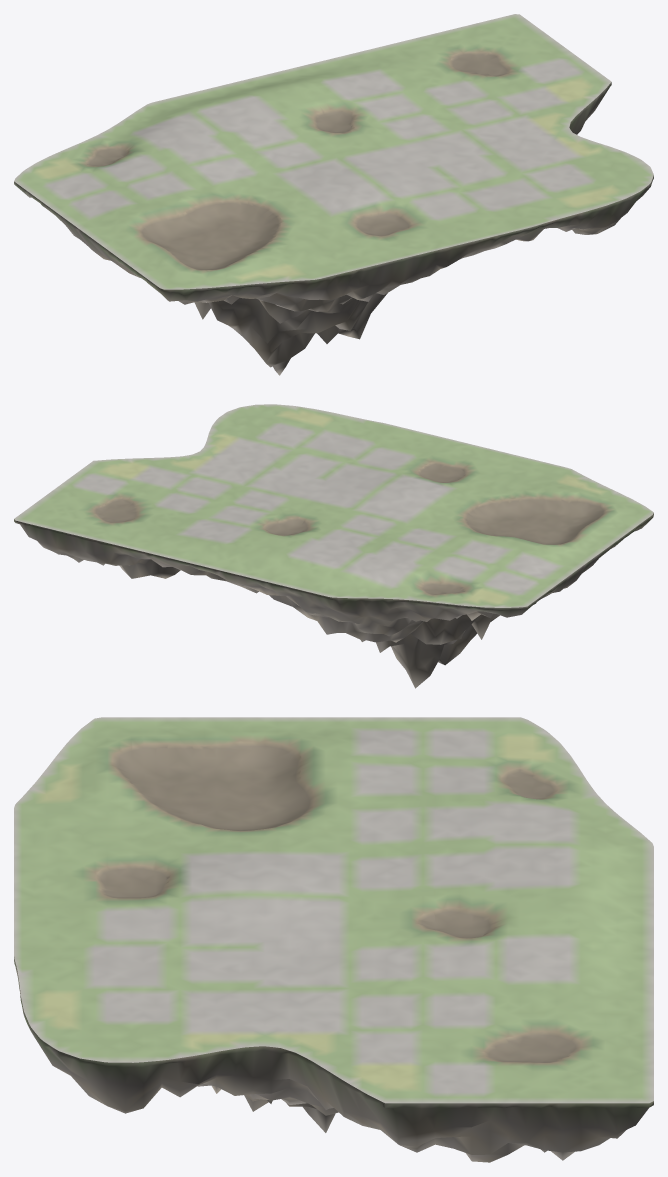
The model's file is SKY-074.rock.glb.
3 views of the same model, one above another, from view 1: azimuth 30°, elevation 25°; view 2: azimuth 150°, elevation 25°; view 3: azimuth 270°, elevation 25° (orthographic). The views are drawn at different scales.
Parts seen in each view (by area): view 1: deck-col, rock; view 2: deck-col, rock; view 3: deck-col, rock.
Boxes of the visible parts, left/top/right/bottom form: deck-col: left=14, top=14, right=653, bottom=289; rock: left=14, top=82, right=653, bottom=375; deck-col: left=14, top=404, right=653, bottom=607; rock: left=14, top=513, right=653, bottom=688; deck-col: left=14, top=717, right=653, bottom=1103; rock: left=14, top=957, right=653, bottom=1162.
Size of the model in its own units: 301 by 106 by 211.
